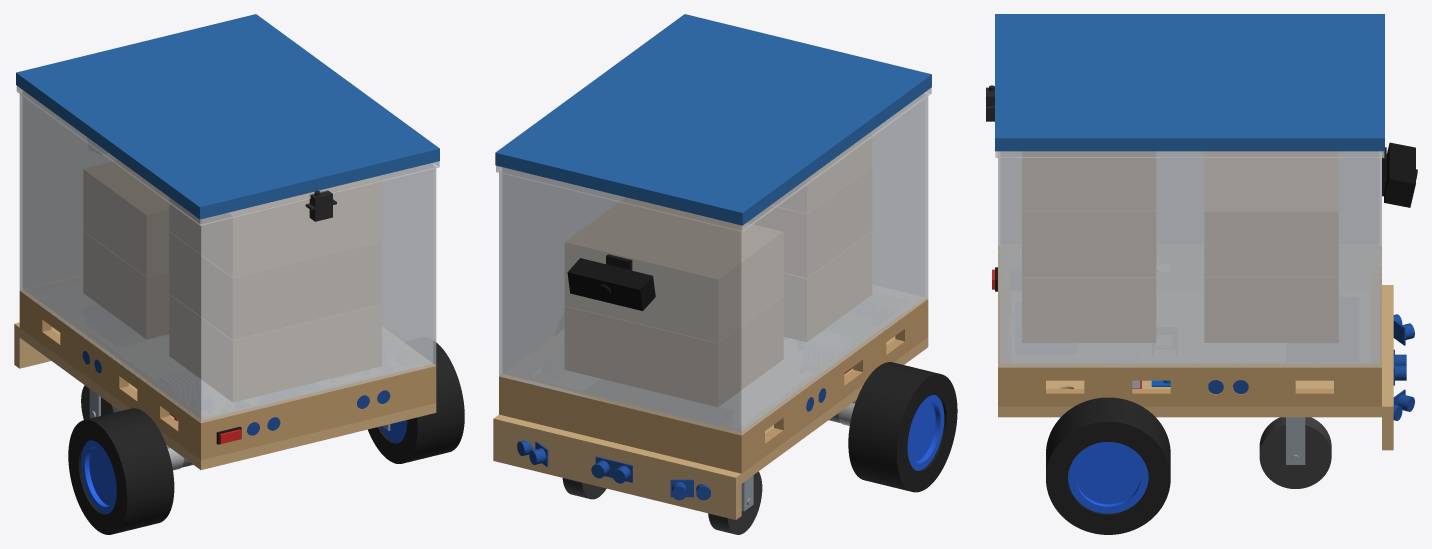
Rendered from delivery_rover.glb.
3 renders of one model, left to right at view 1: azimuth 30°, elevation 25°; view 2: azimuth 150°, elevation 25°; view 3: azimuth 270°, elevation 25°, orthographic. The views are drawn at different scales.
Visible parts, largest first — view 1: Cargo_box_25L_400x300x250, Cargo_box_lid, Payload_parcel_1_190x140x75, Payload_parcel_2_190x140x75, Payload_parcel_3_190x140x75, Wheel_tyre_130x60_L, Wall_rear_276x45x12, Wall_side_L_400x45x12, Payload_parcel_5_190x140x75, Payload_parcel_4_190x140x75, Wheel_tyre_130x60_R, Deck_plywood_400x300x12 (+3 smaller); view 2: Cargo_box_25L_400x300x250, Cargo_box_lid, Payload_parcel_5_190x140x75, Payload_parcel_4_190x140x75, Sonar_strip_plywood_300x50x12, Wheel_tyre_130x60_L, Wall_front_276x45x12, Wall_side_L_400x45x12, Payload_parcel_2_190x140x75, Payload_parcel_1_190x140x75, Webcam_HD-U01_1080p, Payload_parcel_3_190x140x75 (+7 smaller); view 3: Cargo_box_25L_400x300x250, Cargo_box_lid, Payload_parcel_5_190x140x75, Wall_side_R_400x45x12, Wheel_tyre_130x60_R, Payload_parcel_1_190x140x75, Payload_parcel_2_190x140x75, Payload_parcel_4_190x140x75, Payload_parcel_3_190x140x75, Wheel_hub_6mm_coupling_R, Deck_plywood_400x300x12, Caster_3in_wheel_75mm_R (+3 smaller).
Part boxes in pixels (x1,y1,x2,y2): Cargo_box_25L_400x300x250: [16, 86, 439, 423]; Cargo_box_lid: [16, 14, 439, 219]; Payload_parcel_1_190x140x75: [170, 295, 381, 401]; Payload_parcel_2_190x140x75: [170, 232, 381, 339]; Payload_parcel_3_190x140x75: [170, 177, 381, 276]; Wheel_tyre_130x60_L: [68, 408, 174, 534]; Wall_rear_276x45x12: [207, 366, 426, 457]; Wall_side_L_400x45x12: [19, 290, 210, 460]; Payload_parcel_5_190x140x75: [84, 161, 168, 276]; Payload_parcel_4_190x140x75: [84, 232, 168, 338]; Wheel_tyre_130x60_R: [368, 341, 464, 463]; Deck_plywood_400x300x12: [19, 327, 436, 469]; Cargo_box_25L_400x300x250: [496, 87, 931, 435]; Cargo_box_lid: [495, 14, 931, 225]; Payload_parcel_5_190x140x75: [565, 198, 782, 342]; Payload_parcel_4_190x140x75: [565, 296, 782, 406]; Sonar_strip_plywood_300x50x12: [493, 414, 741, 519]; Wheel_tyre_130x60_L: [848, 362, 957, 492]; Wall_front_276x45x12: [508, 377, 734, 471]; Wall_side_L_400x45x12: [732, 298, 928, 473]; Payload_parcel_2_190x140x75: [747, 167, 871, 277]; Payload_parcel_1_190x140x75: [783, 231, 871, 341]; Webcam_HD-U01_1080p: [567, 258, 655, 310]; Payload_parcel_3_190x140x75: [772, 132, 871, 212]; Cargo_box_25L_400x300x250: [995, 151, 1384, 367]; Cargo_box_lid: [995, 14, 1384, 151]; Payload_parcel_5_190x140x75: [1205, 152, 1337, 276]; Wall_side_R_400x45x12: [998, 362, 1381, 406]; Wheel_tyre_130x60_R: [1046, 397, 1170, 534]; Payload_parcel_1_190x140x75: [1022, 277, 1155, 342]; Payload_parcel_2_190x140x75: [1022, 211, 1155, 276]; Payload_parcel_4_190x140x75: [1205, 277, 1337, 342]; Payload_parcel_3_190x140x75: [1022, 152, 1155, 209]; Wheel_hub_6mm_coupling_R: [1068, 442, 1148, 513]; Deck_plywood_400x300x12: [998, 380, 1381, 417]; Caster_3in_wheel_75mm_R: [1259, 417, 1331, 488].
Bounding box in the file's own units: 0.43 × 0.427 × 0.4495.
